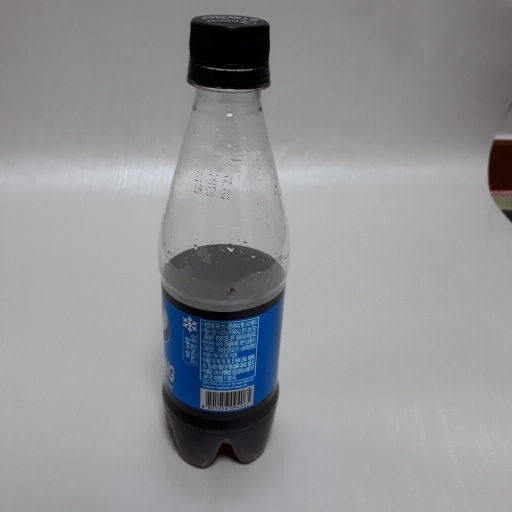Plastic_0: (158, 11, 290, 468)
